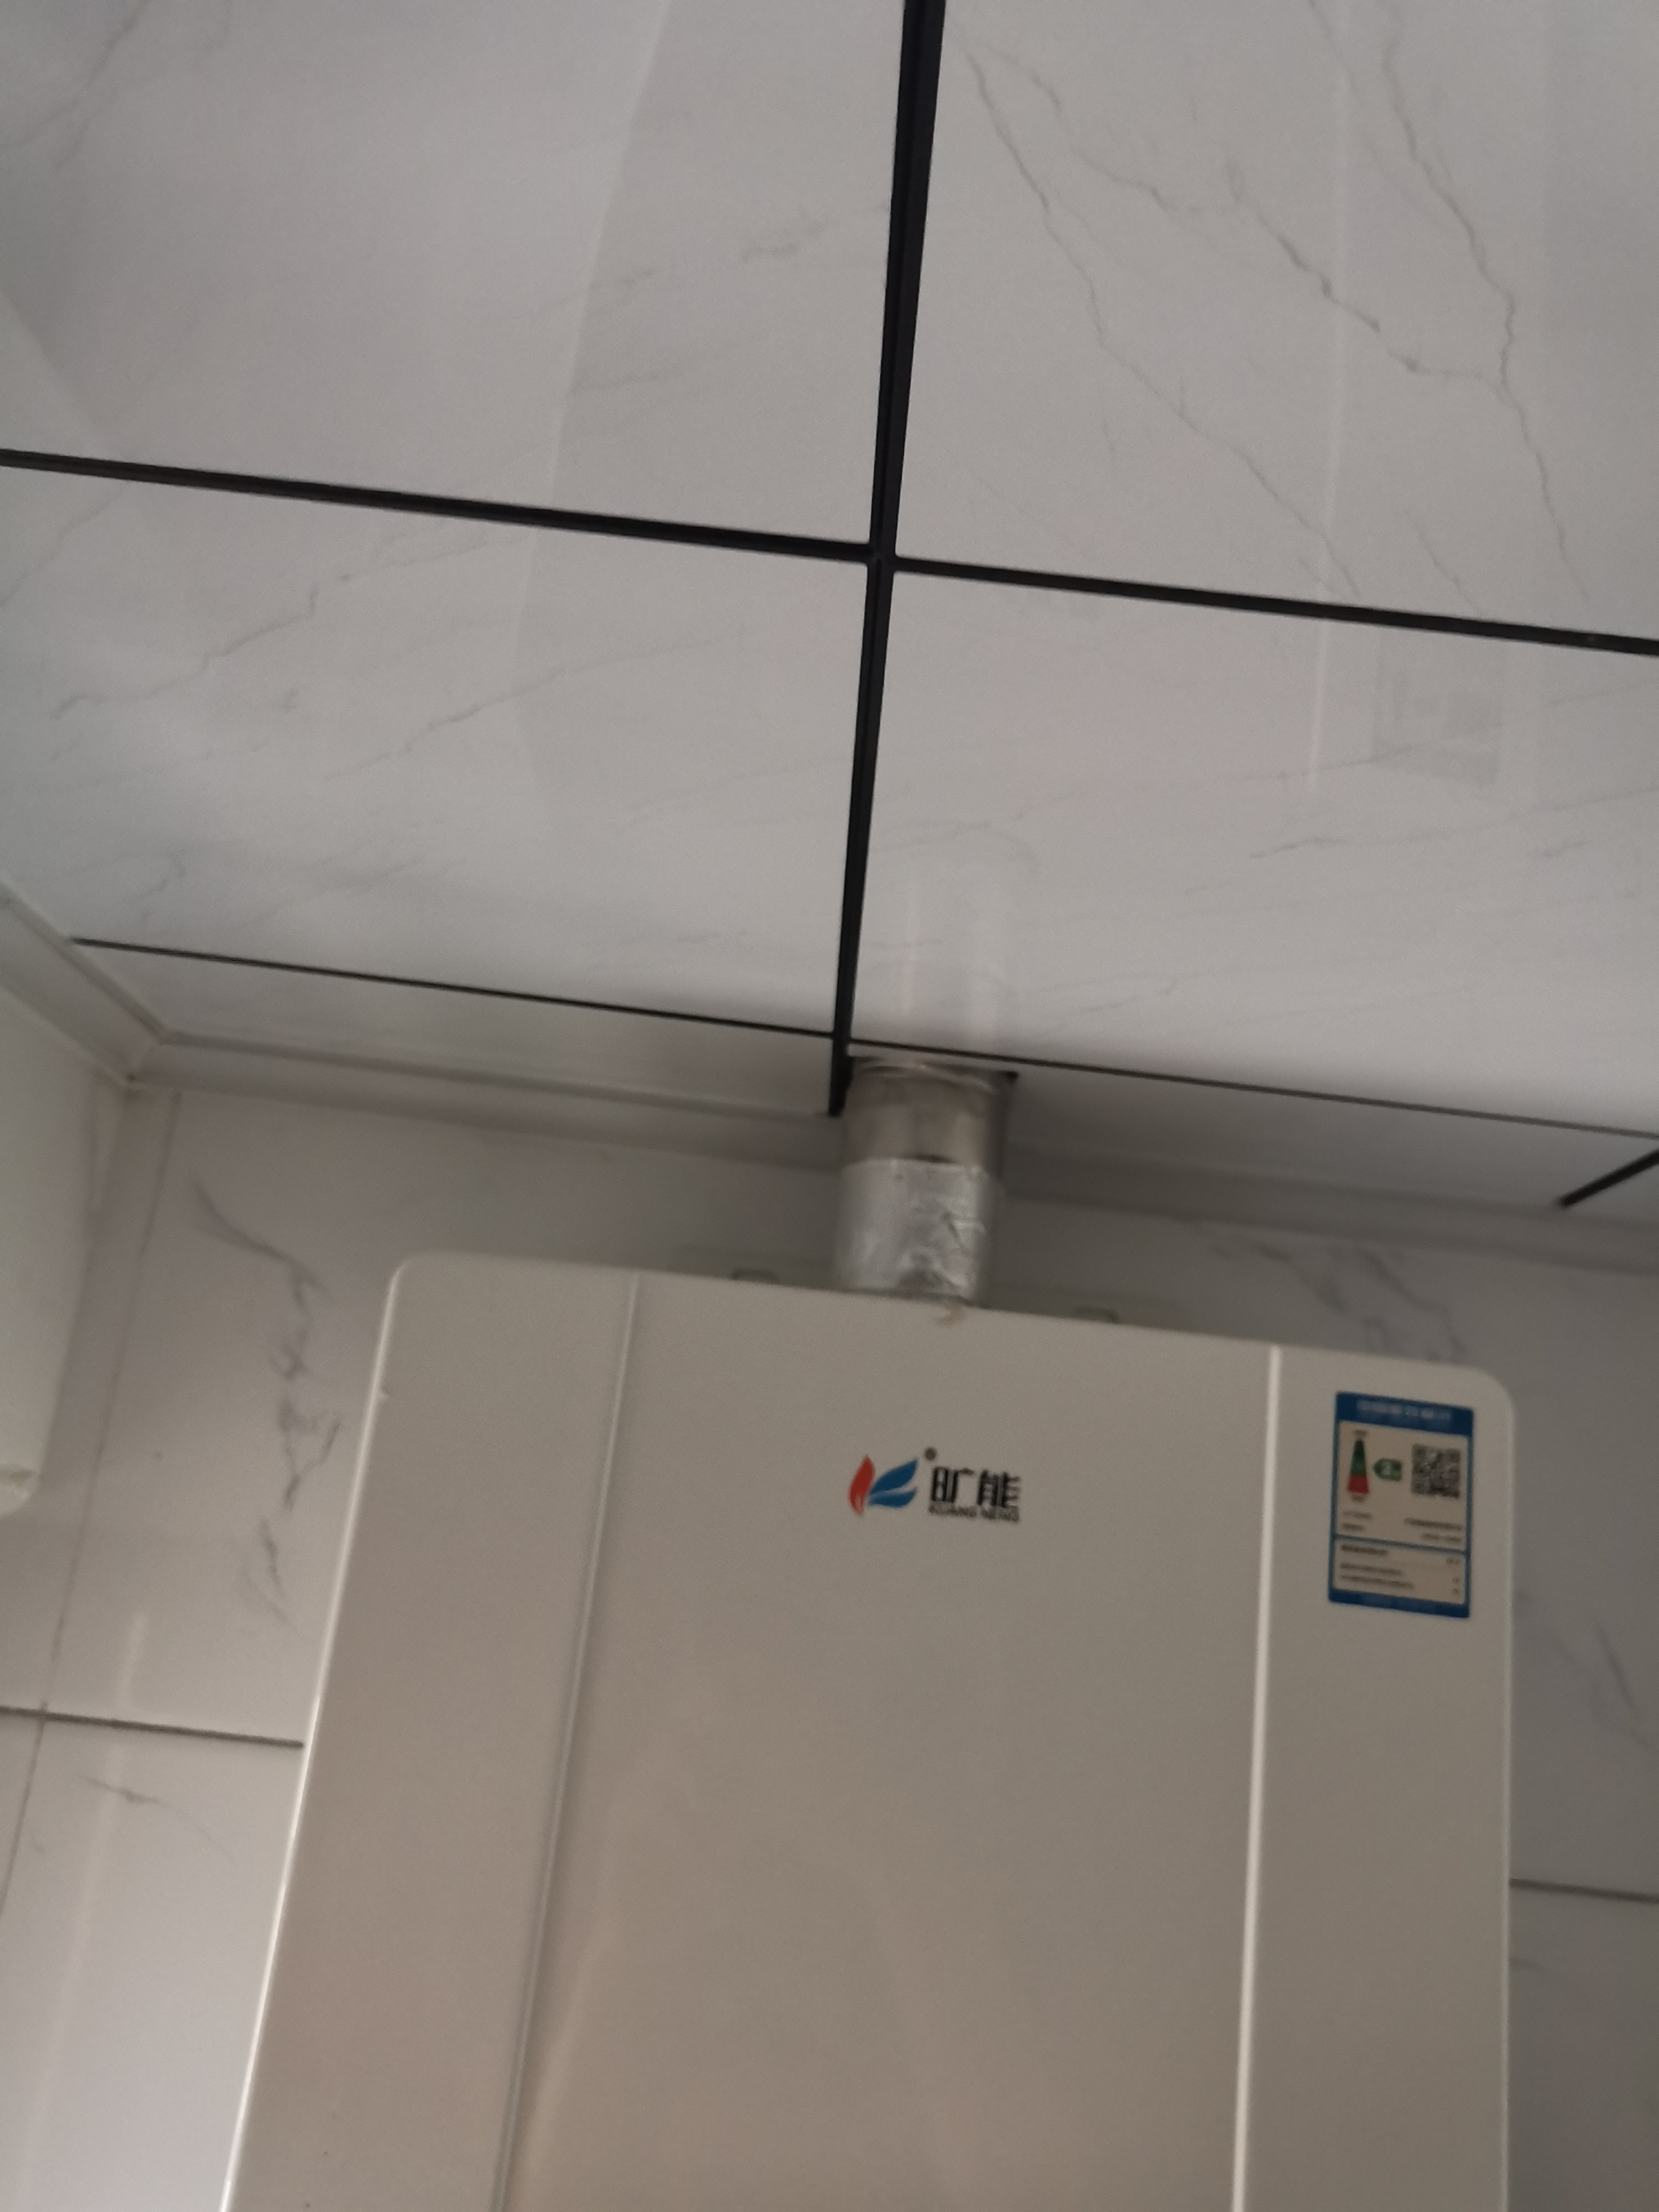loudou: (836, 1432, 1047, 1554)
